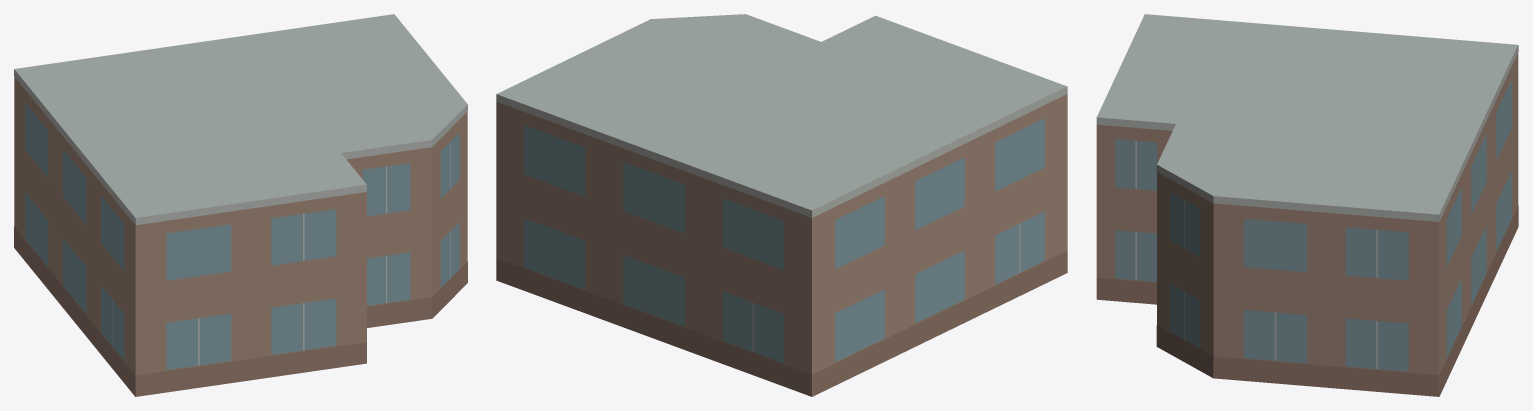
Rendered from survey-upis-32906115.glb.
3 renders of one model, left to right at view 1: azimuth 30°, elevation 25°; view 2: azimuth 150°, elevation 25°; view 3: azimuth 270°, elevation 25°, orthographic. The views are drawn at different scales.
Parts seen in each view (by area): view 1: survey-upis-32906115.tmp; view 2: survey-upis-32906115.tmp; view 3: survey-upis-32906115.tmp.
Boxes of the visible parts, <box> form: survey-upis-32906115.tmp: <box>14,14,467,396</box>; survey-upis-32906115.tmp: <box>496,14,1067,396</box>; survey-upis-32906115.tmp: <box>1096,14,1518,396</box>.
Bounding box in the file's own units: 14.42 × 6.1 × 12.81.
